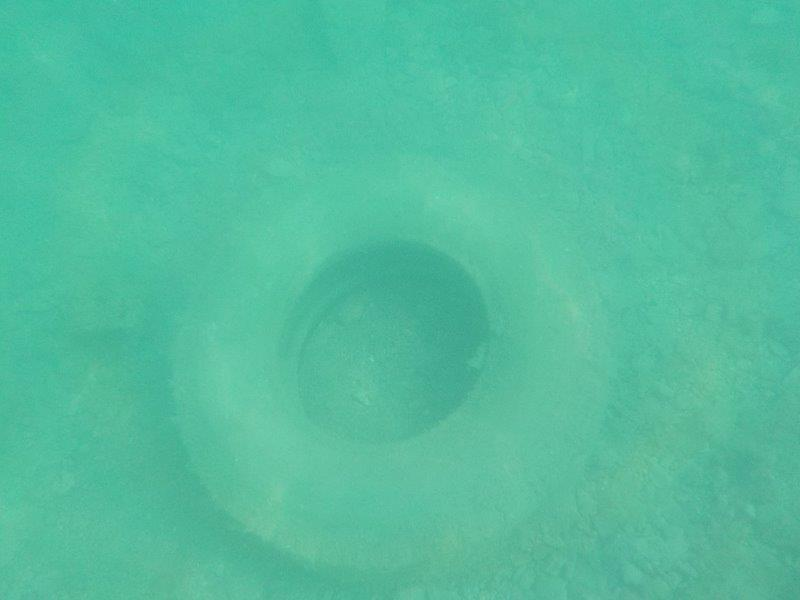tire: (161, 144, 633, 591)
